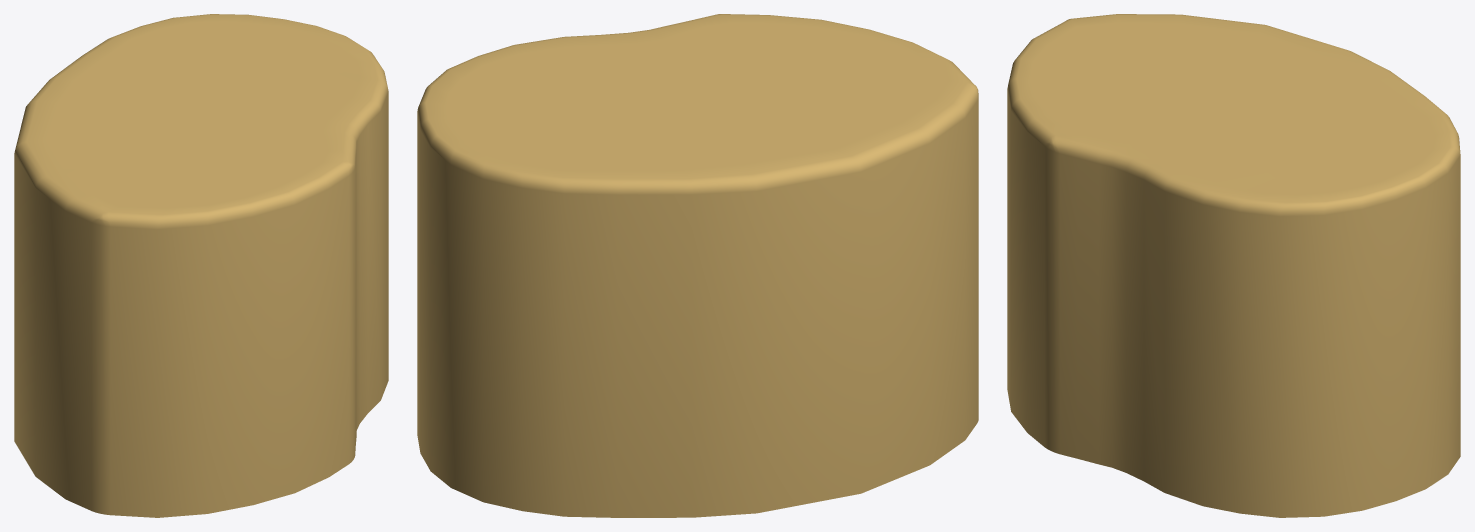
The model's file is Map_02_Cutter.fbx.
The picture shows the model from 3 angles, left to right: view 1: azimuth 30°, elevation 25°; view 2: azimuth 150°, elevation 25°; view 3: azimuth 270°, elevation 25°; orthographic projection. The views are drawn at different scales.
Visible parts, largest first — view 1: Map_Land_02_Cutter; view 2: Map_Land_02_Cutter; view 3: Map_Land_02_Cutter.
Boxes of the visible parts, x1,y1,x2,y2 form: Map_Land_02_Cutter: (14, 14, 388, 517); Map_Land_02_Cutter: (417, 14, 978, 517); Map_Land_02_Cutter: (1007, 14, 1460, 517).
Bounding box in the file's own units: 39.39 × 29.06 × 38.32.
